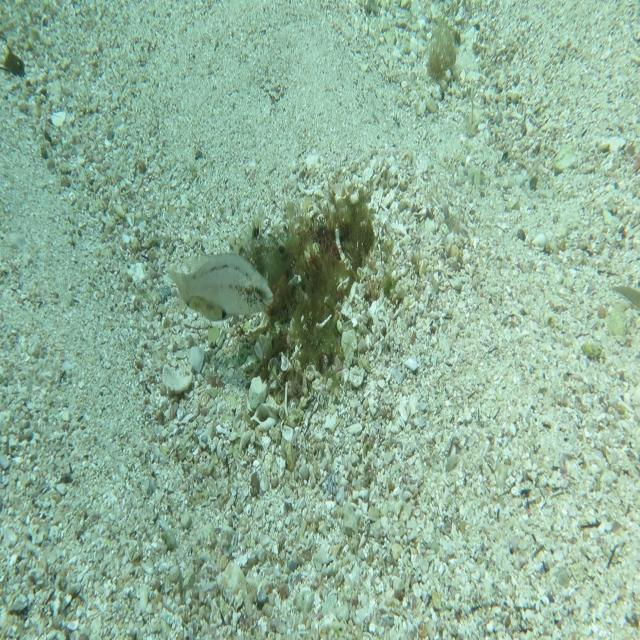FAN: (171, 215, 301, 310)
core_nest: (312, 215, 366, 256)
female: (167, 250, 275, 321)
nest: (260, 178, 400, 416)
